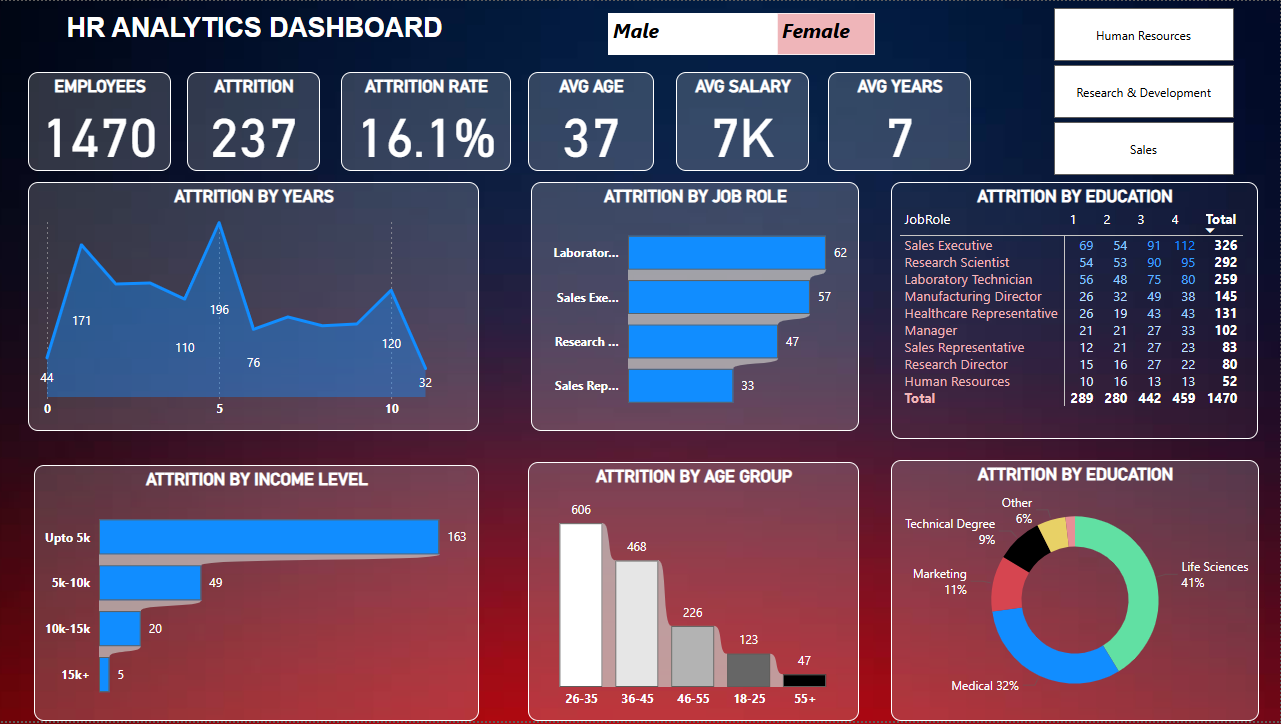

The dashboard page shown, as its layout file describes it:
{"tool":"powerbi","page":{"name":"Page 1","canvas":[1280,720],"ordinal":0},"visuals":[{"type":"card","title":"EMPLOYEES","fields":{"Values":["Count(HR_Analytics.EmpID)"]},"box":[27.8,71.1,143.3,98.9],"z":0},{"type":"card","title":"ATTRITION","fields":{"Values":["Sum(HR_Analytics.AttritionCount)"]},"box":[186.7,71.1,133.3,98.9],"z":1000},{"type":"card","title":"ATTRITION RATE","fields":{"Values":["HR_Analytics.AttritionRate"]},"box":[341.1,71.1,170,98.9],"z":2000},{"type":"card","title":"AVG AGE","fields":{"Values":["Avg(HR_Analytics.Age)"]},"box":[527.8,71.1,126.7,98.9],"z":3000},{"type":"card","title":"AVG SALARY","fields":{"Values":["Avg(HR_Analytics.MonthlyIncome)"]},"box":[675.6,71.1,133.3,98.9],"z":4000},{"type":"card","title":"AVG YEARS","fields":{"Values":["Avg(HR_Analytics.YearsAtCompany)"]},"box":[827.8,71.1,143.3,98.9],"z":5000},{"type":"donutChart","title":"ATTRITION BY EDUCATION","fields":{"Y":["CountNonNull(HR_Analytics.Attrition)"],"Category":["HR_Analytics.EducationField"]},"box":[891.1,458.9,367.8,261.1],"z":6000},{"type":"columnChart","title":"ATTRITION BY AGE GROUP","fields":{"Category":["HR_Analytics.AgeGroup"],"Y":["CountNonNull(HR_Analytics.Attrition)"]},"box":[527.8,461.1,331.1,258.9],"z":7000},{"type":"pivotTable","title":"ATTRITION BY EDUCATION","fields":{"Rows":["HR_Analytics.JobRole"],"Values":["CountNonNull(HR_Analytics.Attrition)"],"Columns":["HR_Analytics.JobSatisfaction"]},"box":[891.1,181.1,366.7,256.7],"z":8000},{"type":"barChart","title":"ATTRITION BY INCOME LEVEL","fields":{"Category":["HR_Analytics.SalarySlab"],"Y":["Sum(HR_Analytics.AttritionCount)"]},"box":[34.4,464.4,444.4,255.6],"z":9000},{"type":"barChart","title":"ATTRITION BY JOB ROLE","fields":{"Category":["HR_Analytics.JobRole"],"Y":["Sum(HR_Analytics.AttritionCount)"]},"box":[531.1,181.1,327.8,248.9],"z":10000},{"type":"stackedAreaChart","title":"ATTRITION BY YEARS","fields":{"Category":["HR_Analytics.YearsAtCompany"],"Y":["CountNonNull(HR_Analytics.SalarySlab)"]},"box":[27.8,181.1,451.1,248.9],"z":11000},{"type":"treemap","fields":{"Values":["Sum(HR_Analytics.AttritionCount)"],"Details":["HR_Analytics.Gender"]},"box":[603,7,277,52],"z":12000},{"type":"slicer","fields":{"Values":["HR_Analytics.Department"]},"box":[1028,0,230,181],"z":13000},{"type":"textbox","box":[62,7,390,54],"z":14000}]}

Visuals, with their boxes in screenshot pixels (x1, y1, x2, y2), scaled from the page's 1280x720 canvas onto the 1281x724 screenshot:
"EMPLOYEES" card: detection(28, 71, 171, 171)
"ATTRITION" card: detection(187, 71, 320, 171)
"ATTRITION RATE" card: detection(341, 71, 511, 171)
"AVG AGE" card: detection(528, 71, 655, 171)
"AVG SALARY" card: detection(676, 71, 810, 171)
"AVG YEARS" card: detection(828, 71, 972, 171)
"ATTRITION BY EDUCATION" donutChart: detection(892, 461, 1260, 723)
"ATTRITION BY AGE GROUP" columnChart: detection(528, 464, 860, 723)
"ATTRITION BY EDUCATION" pivotTable: detection(892, 182, 1259, 440)
"ATTRITION BY INCOME LEVEL" barChart: detection(34, 467, 479, 723)
"ATTRITION BY JOB ROLE" barChart: detection(532, 182, 860, 432)
"ATTRITION BY YEARS" stackedAreaChart: detection(28, 182, 479, 432)
treemap - Sum(HR_Analytics.AttritionCount) x HR_Analytics.Gender: detection(603, 7, 881, 59)
slicer - HR_Analytics.Department: detection(1029, 0, 1259, 182)
textbox: detection(62, 7, 452, 61)
